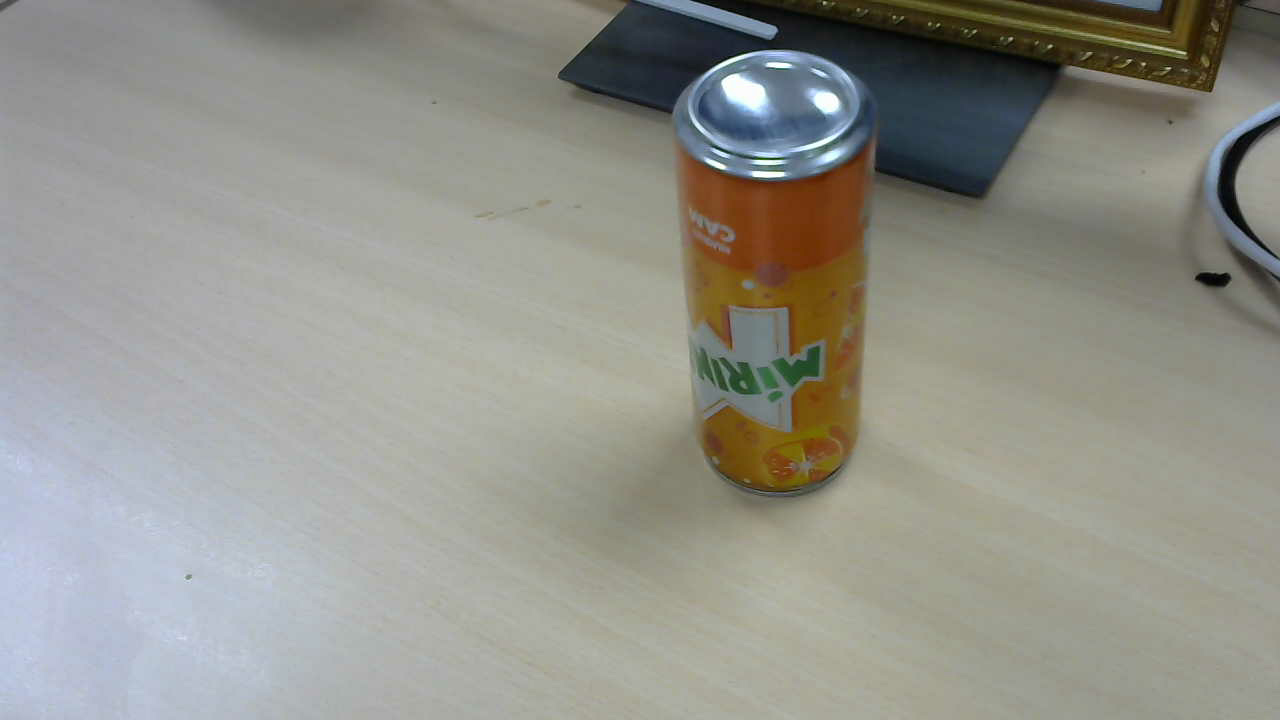Mirinda: (677, 50, 879, 499)
